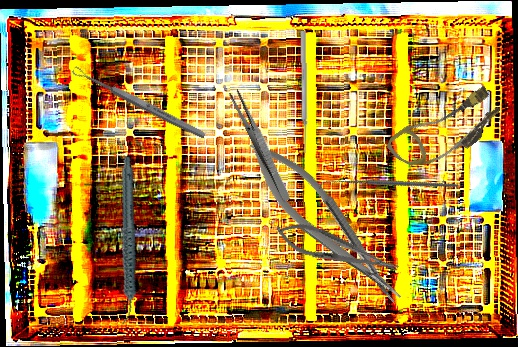Cannula: (383, 74, 509, 187)
Dressing Forceps: (227, 88, 295, 203)
Handpiece: (85, 154, 167, 327)
Hook Surgical: (317, 121, 461, 251)
Needle Holder: (237, 126, 410, 319), (271, 214, 403, 285)
Pusher: (298, 30, 310, 154)
Surgical Spoon: (71, 64, 207, 141)
